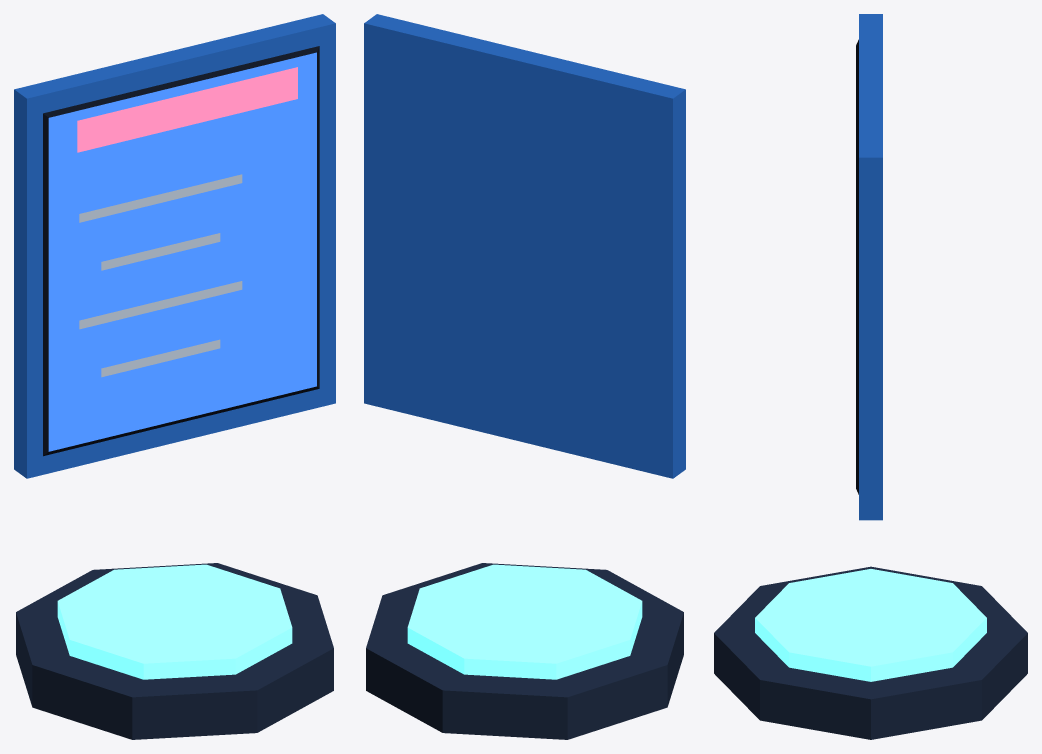
Rendered from Fragment_Post.fbx.
The picture shows the model from 3 angles, left to right: view 1: azimuth 30°, elevation 25°; view 2: azimuth 150°, elevation 25°; view 3: azimuth 270°, elevation 25°; orthographic projection. The views are drawn at different scales.
Parts seen in each view (by area): view 1: KIT_Fragment_Post_Card, KIT_Fragment_Post_Base; view 2: KIT_Fragment_Post_Card, KIT_Fragment_Post_Base; view 3: KIT_Fragment_Post_Base, KIT_Fragment_Post_Card.
Boxes of the visible parts, x1,y1,x2,y2 form: KIT_Fragment_Post_Card: (14, 14, 335, 478); KIT_Fragment_Post_Base: (16, 563, 333, 739); KIT_Fragment_Post_Card: (364, 14, 685, 478); KIT_Fragment_Post_Base: (366, 563, 683, 739); KIT_Fragment_Post_Base: (714, 566, 1027, 739); KIT_Fragment_Post_Card: (856, 14, 882, 520).
Size of the model in its own units: 0.91 by 1.74 by 0.84.
